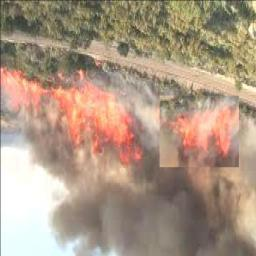Heavy smoke: (1, 94, 256, 256)
Medium fire: (0, 63, 245, 171)
